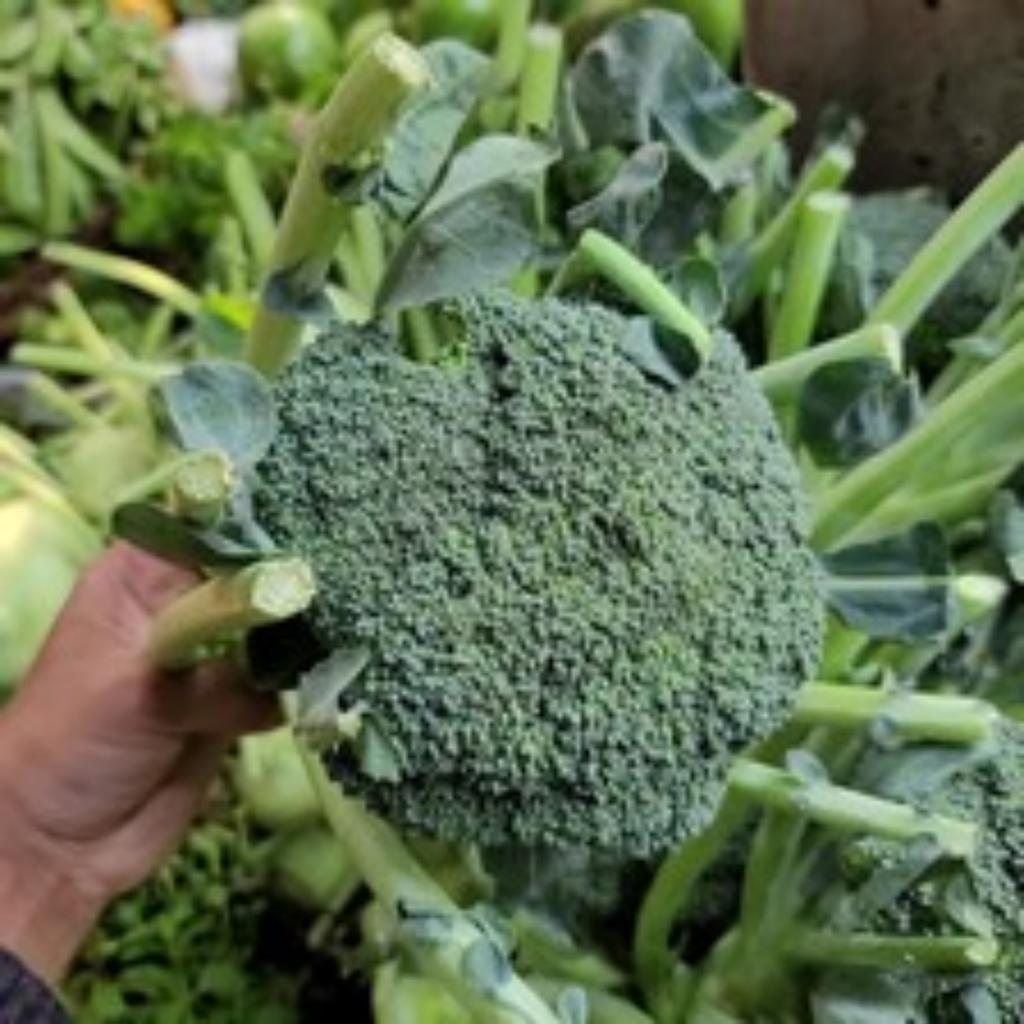Broccoli: (256, 300, 820, 855)
